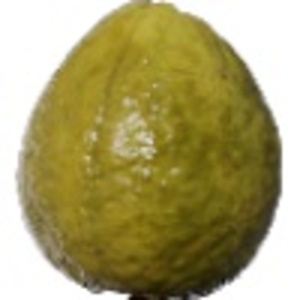goiaba: (8, 3, 289, 297)
